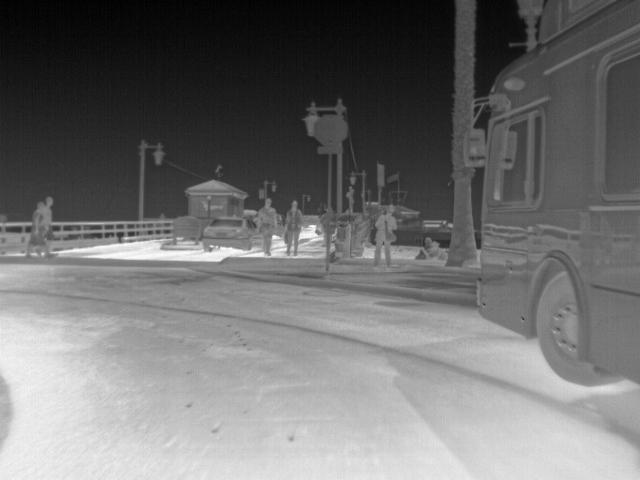car: (203, 215, 252, 252)
person: (370, 204, 401, 268), (27, 202, 56, 260), (281, 201, 308, 255), (255, 197, 279, 255), (44, 194, 56, 235), (414, 235, 433, 260)
